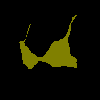reggiseno: (19, 15, 77, 69)
